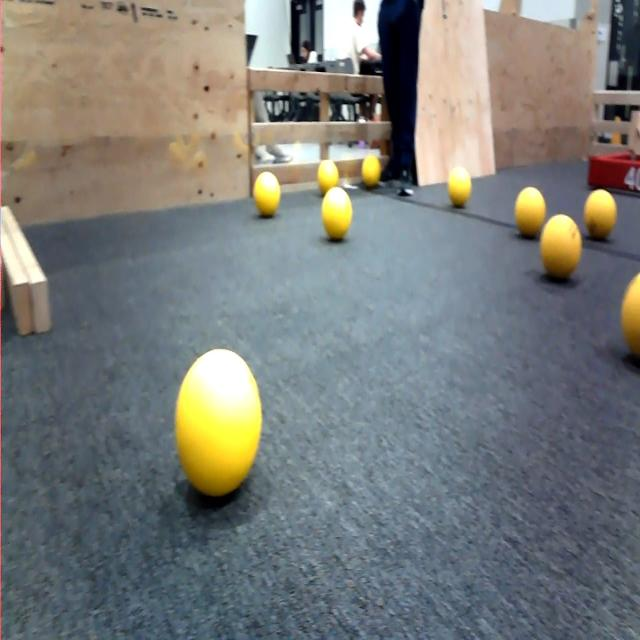fuel: (174, 347, 265, 501), (542, 211, 585, 279), (585, 178, 618, 245), (321, 186, 355, 240), (515, 187, 550, 237), (622, 279, 640, 362), (254, 170, 281, 218), (449, 165, 472, 211), (361, 155, 382, 190), (319, 160, 338, 191)
